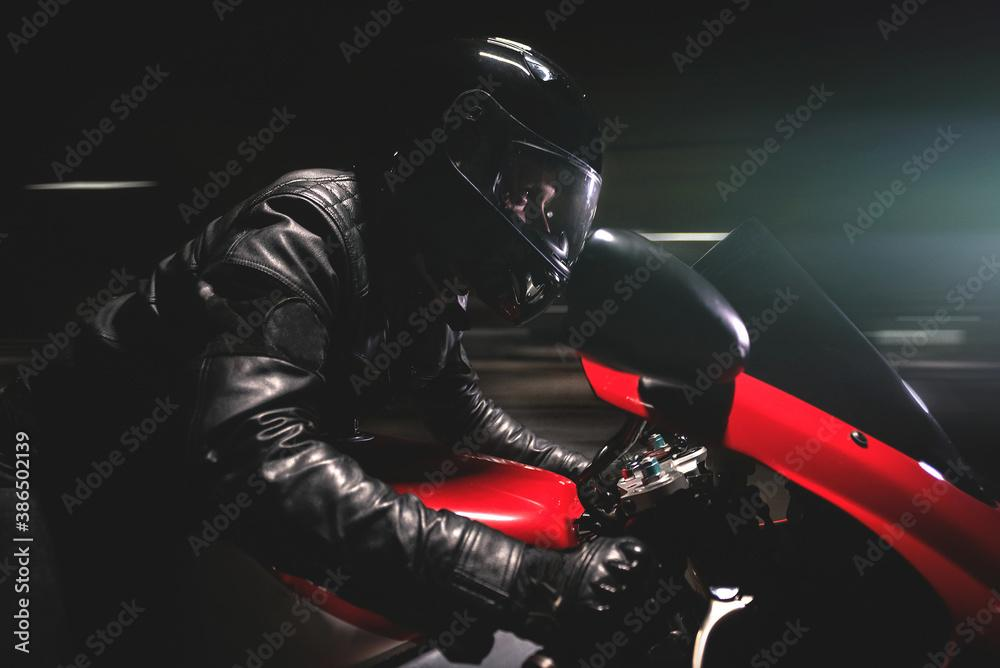helmet: (348, 31, 606, 328)
